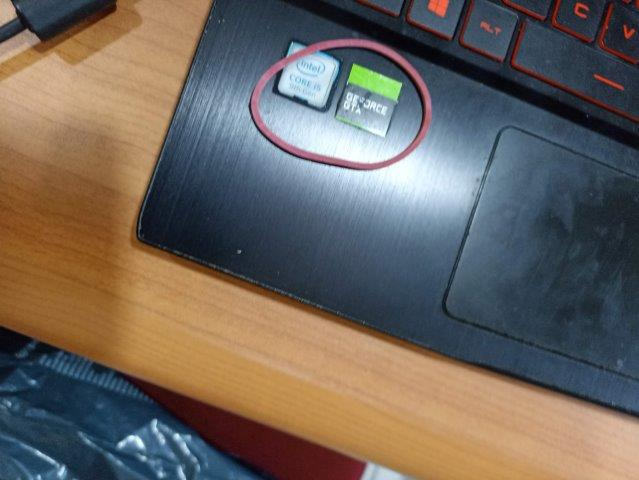karet: (251, 37, 432, 172)
